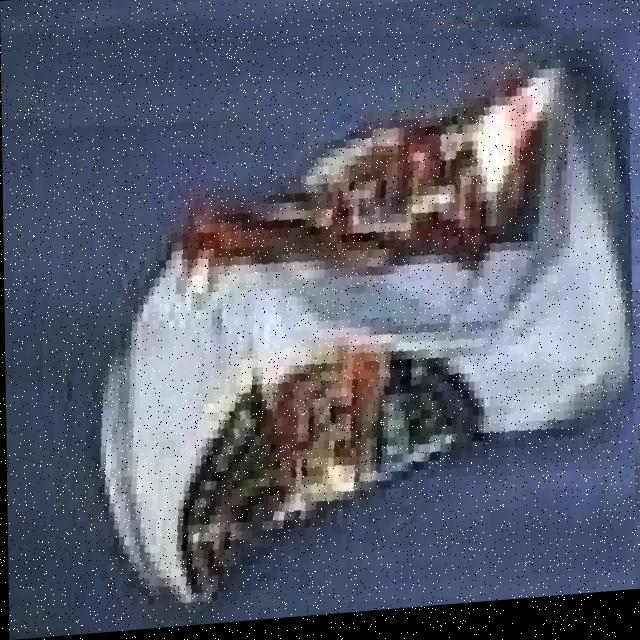litter: (77, 30, 632, 629)
